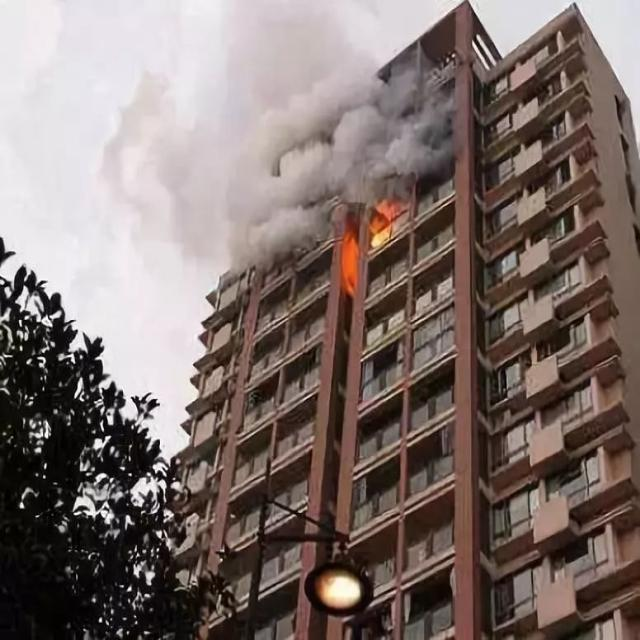Smoke: (98, 2, 444, 266)
